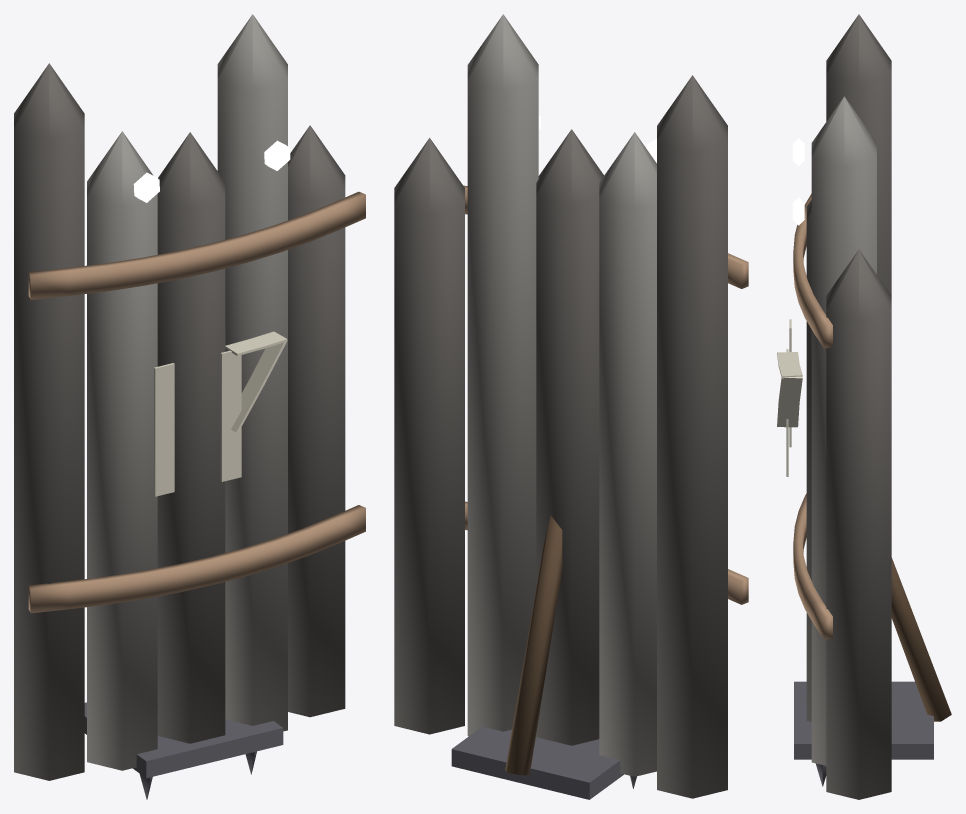
The model's file is shield-post-wall.glb.
3 views of the same model, side by side, from view 1: azimuth 30°, elevation 25°; view 2: azimuth 150°, elevation 25°; view 3: azimuth 270°, elevation 25° (orthographic). The views are drawn at different scales.
Parts seen in each view (by area): view 1: shield-post-wall; view 2: shield-post-wall; view 3: shield-post-wall.
Boxes of the visible parts, box(x1,y1,x2,y2) form: shield-post-wall: box(14, 14, 365, 799); shield-post-wall: box(394, 14, 748, 799); shield-post-wall: box(777, 14, 951, 799).
Bounding box in the file's own units: 1.18 × 2.52 × 0.5743.
